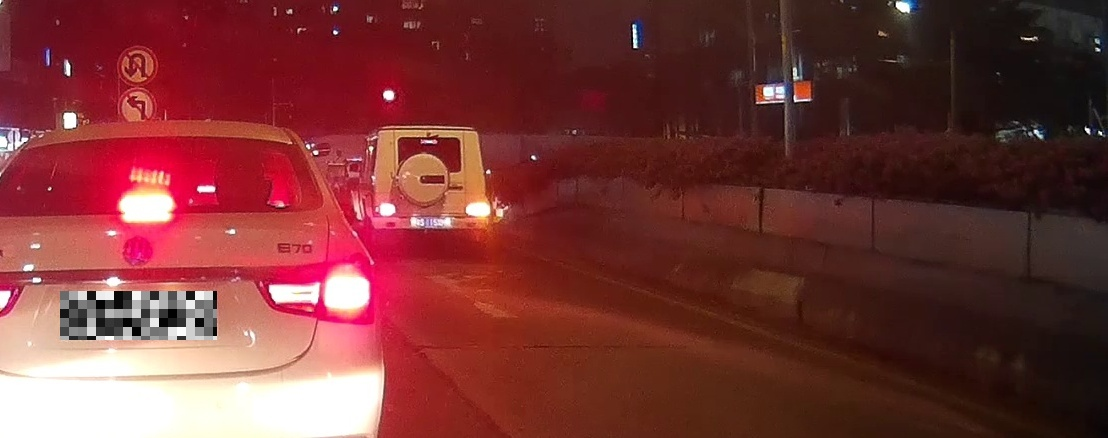L_light: (376, 205, 396, 216)
R_light: (466, 205, 489, 216)
T_light: (420, 139, 438, 145)
night-right: (373, 125, 490, 251)
plate_1: (60, 291, 217, 340)
